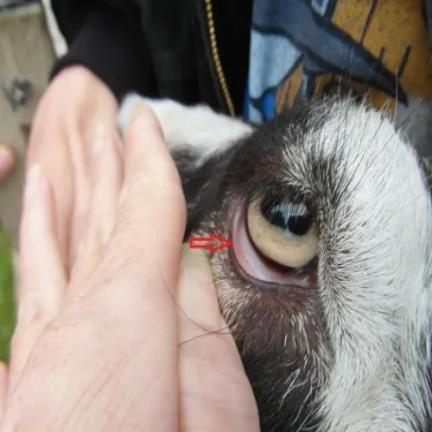goat-eye-anemia-22222222: (222, 195, 254, 261)
